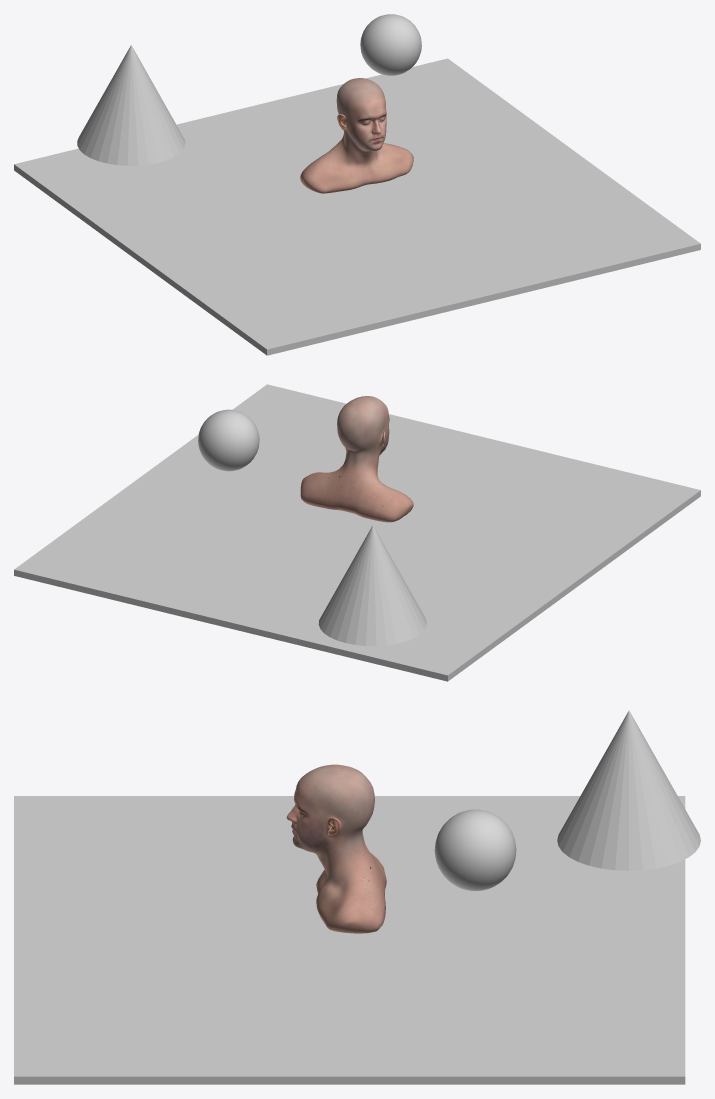
File: Head.dae
The picture shows the model from 3 angles, top to bottom: view 1: azimuth 30°, elevation 25°; view 2: azimuth 150°, elevation 25°; view 3: azimuth 270°, elevation 25°; orthographic projection. The views are drawn at different scales.
Parts seen in each view (by area): view 1: Cube, Cone, Mesh_004, Sphere; view 2: Cube, Cone, Mesh_004, Sphere; view 3: Cube, Cone, Mesh_004, Sphere.
Part boxes in pixels (bbox=[...]): Cube: bbox=[14, 58, 700, 355]; Cone: bbox=[77, 45, 185, 165]; Mesh_004: bbox=[300, 78, 413, 193]; Sphere: bbox=[360, 14, 421, 75]; Cube: bbox=[14, 384, 700, 681]; Cone: bbox=[318, 525, 426, 646]; Mesh_004: bbox=[300, 396, 413, 522]; Sphere: bbox=[198, 409, 259, 471]; Cube: bbox=[14, 796, 685, 1084]; Cone: bbox=[557, 710, 700, 870]; Mesh_004: bbox=[286, 764, 386, 933]; Sphere: bbox=[434, 809, 516, 891].
Size of the model in its own units: 9.23 by 9.55 by 2.82.
